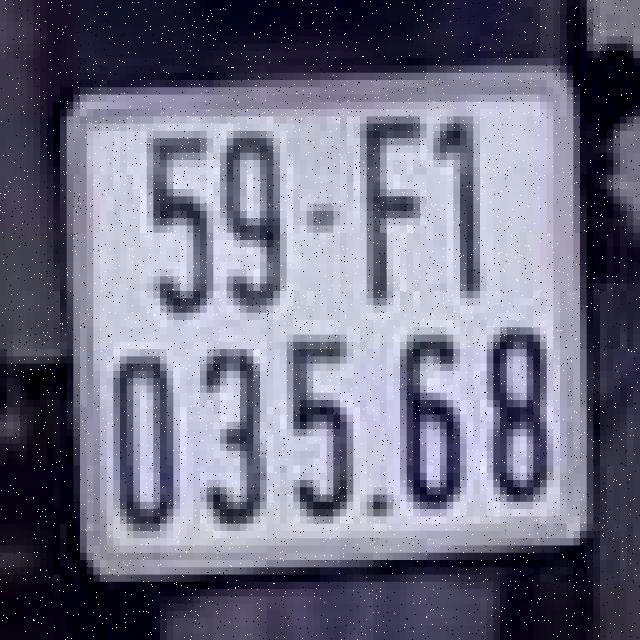0: (97, 345, 190, 542)
1: (423, 98, 517, 309)
3: (186, 338, 286, 542)
5: (270, 320, 370, 531), (140, 109, 227, 335)
6: (387, 324, 473, 527)
8: (473, 312, 567, 524)
9: (213, 127, 307, 324)
F: (350, 98, 430, 309)
